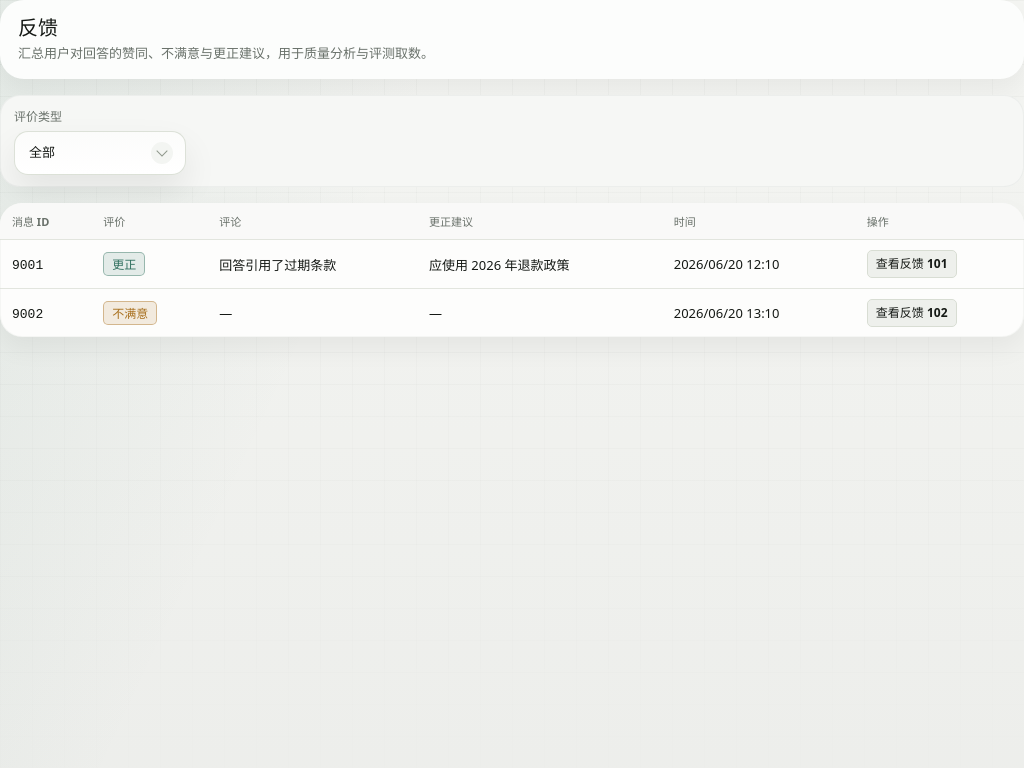
FeedbackConsolePage › only exposes eval draft creation for correction feedback and warns when source messages are incomplete
Step 1. Click the button "查看反馈 102" → (912, 313), box 867,299 -> 956,327
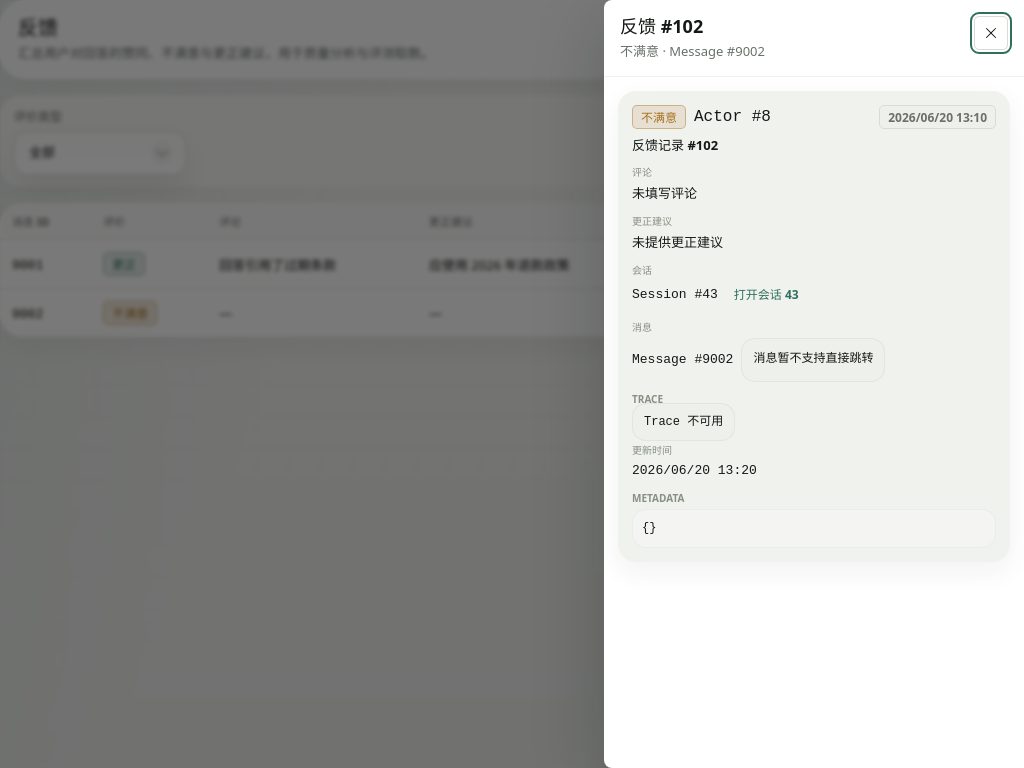
Check: the button "生成评测用例" is not shown
Step 2. Click the button named "关闭反馈 #102" → (991, 33), box 974,16 -> 1008,50
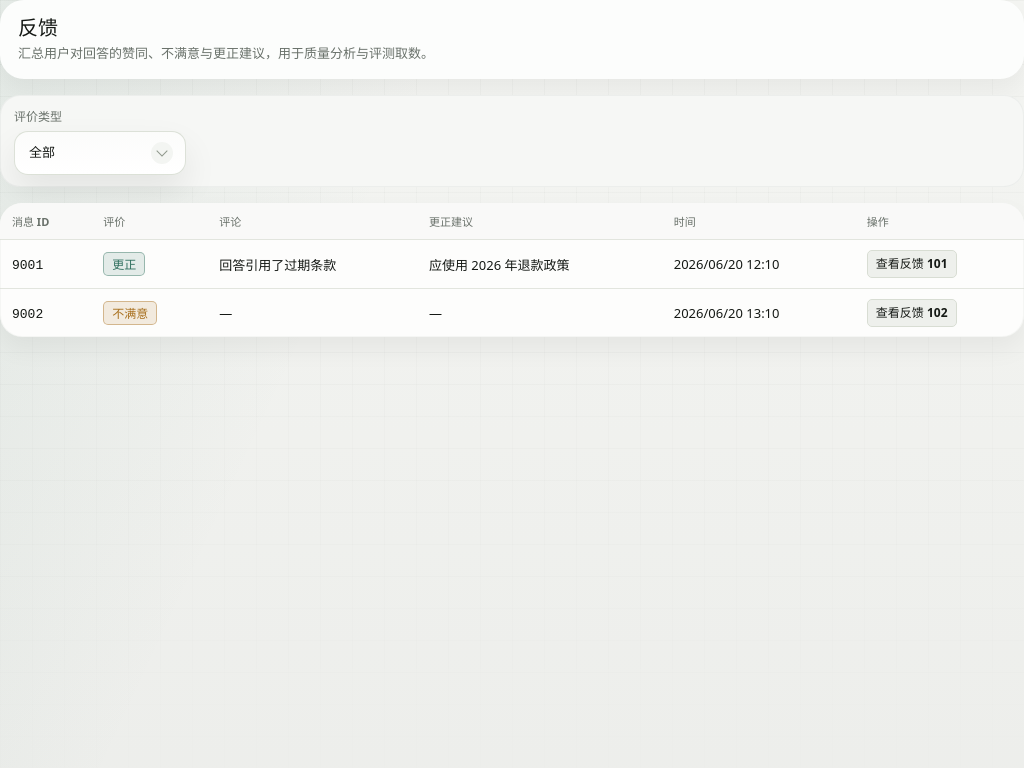
Step 3. Click the button "查看反馈 101" → (912, 264), box 867,250 -> 956,278
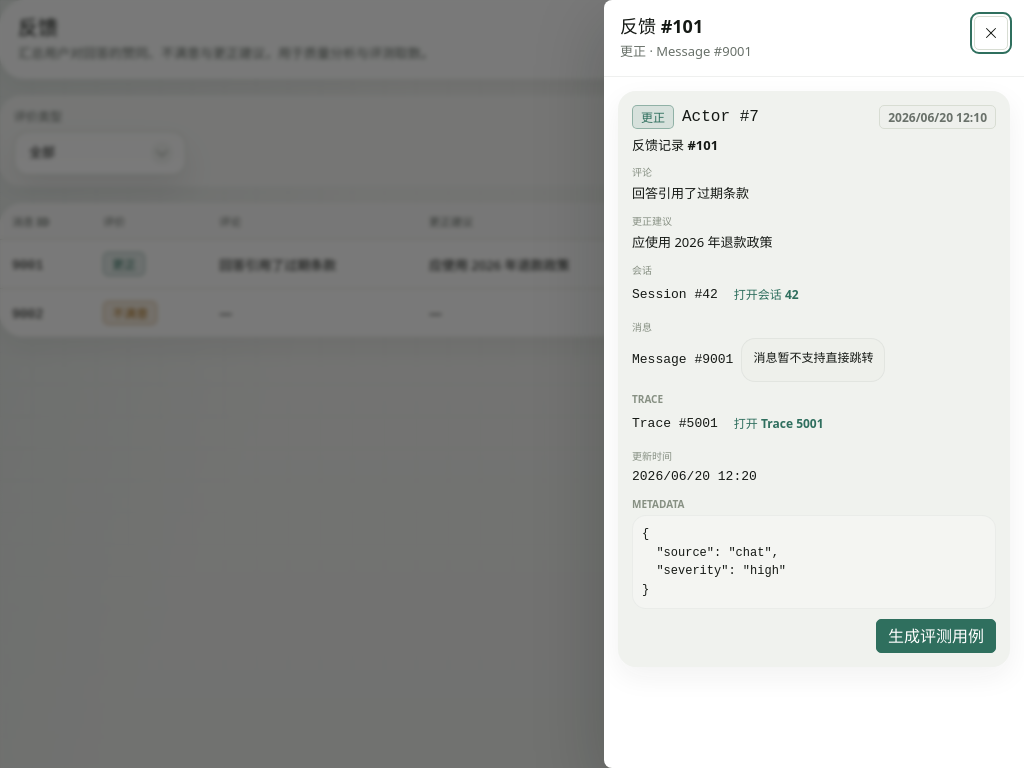
Step 4. Click the button "生成评测用例" → (936, 636), box 876,619 -> 996,653
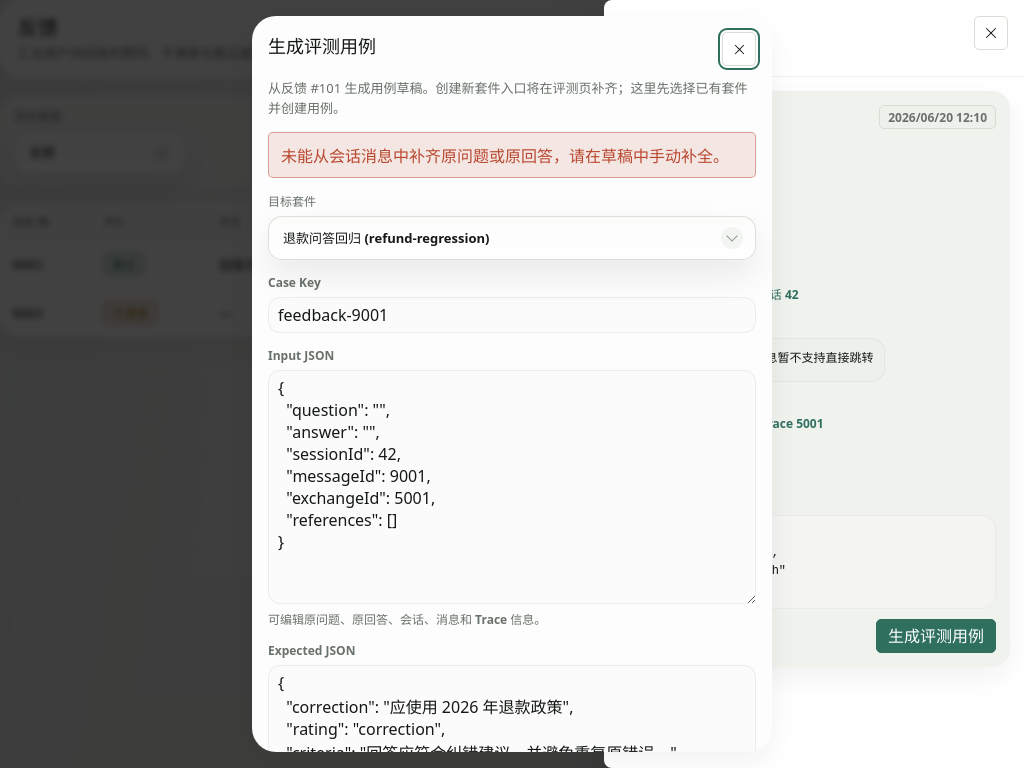
Check: the text "未能从会话消息中补齐原问题或原回答，请在草稿中手动补全。" is shown, box 268,132 -> 756,178
